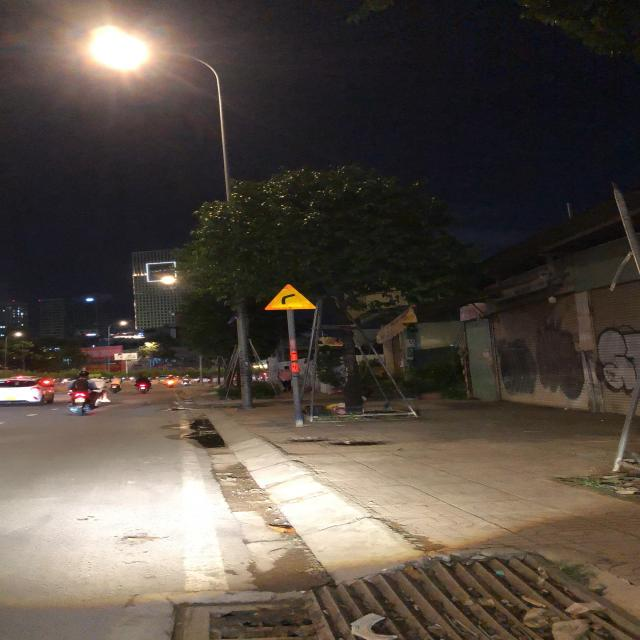Bien bao cho ngoat nguy hiem: (257, 282, 330, 312)
